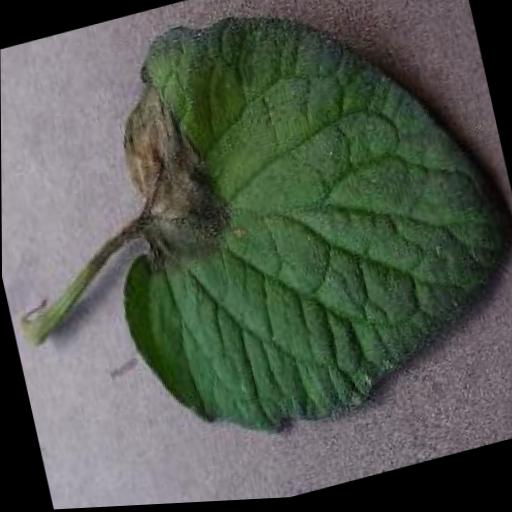Late Blight: (62, 0, 512, 473)
